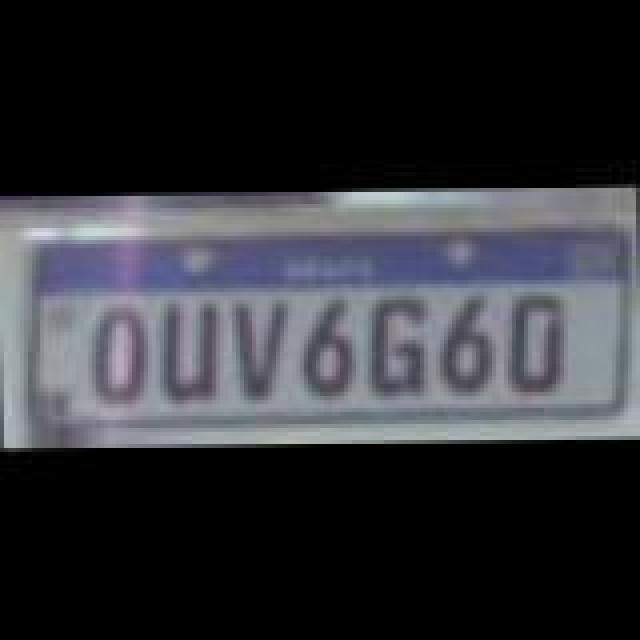6: (436, 292, 500, 396), (296, 296, 360, 400)
D: (506, 290, 566, 398)
G: (370, 288, 430, 400)
O: (90, 302, 150, 402)
U: (160, 296, 224, 400)
V: (228, 294, 292, 402)
